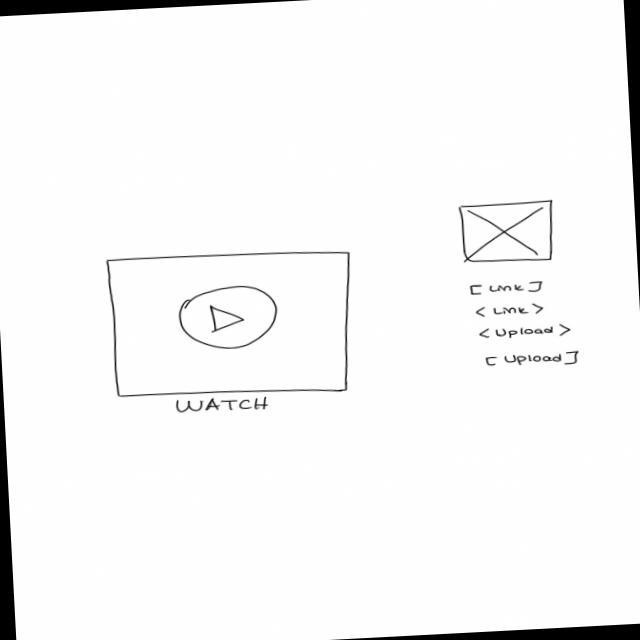image: (457, 199, 557, 265)
label: (174, 394, 270, 416)
link: (482, 348, 584, 370), (478, 322, 574, 342), (468, 278, 547, 296), (474, 301, 546, 319)
